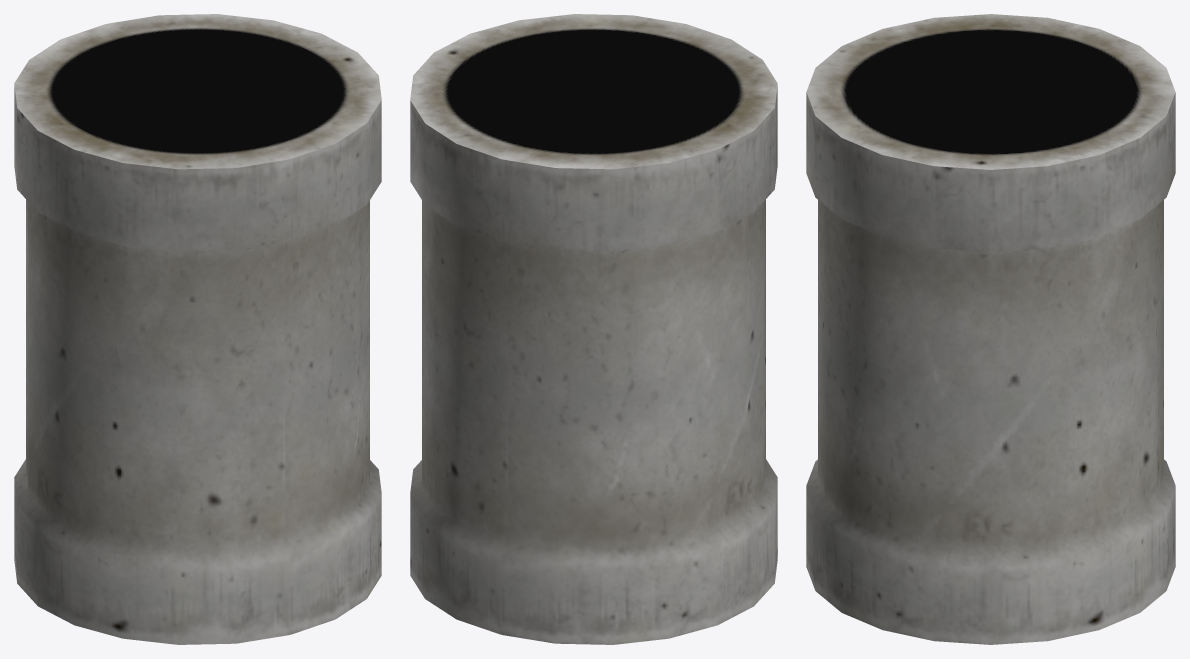
Rendered from PlasticPipe_13a_snaps019.fbx.
3 views of the same model, side by side, from view 1: azimuth 30°, elevation 25°; view 2: azimuth 150°, elevation 25°; view 3: azimuth 270°, elevation 25° (orthographic).
Parts seen in each view (by area): view 1: PlasticPipe_13a_snaps019_LOD0; view 2: PlasticPipe_13a_snaps019_LOD0; view 3: PlasticPipe_13a_snaps019_LOD0.
Boxes of the visible parts, <box> form: PlasticPipe_13a_snaps019_LOD0: <box>14,14,381,644</box>; PlasticPipe_13a_snaps019_LOD0: <box>410,14,777,644</box>; PlasticPipe_13a_snaps019_LOD0: <box>806,14,1175,644</box>.
Size of what is drawn, in the model's own units: 26.42 by 37.5 by 26.42.
